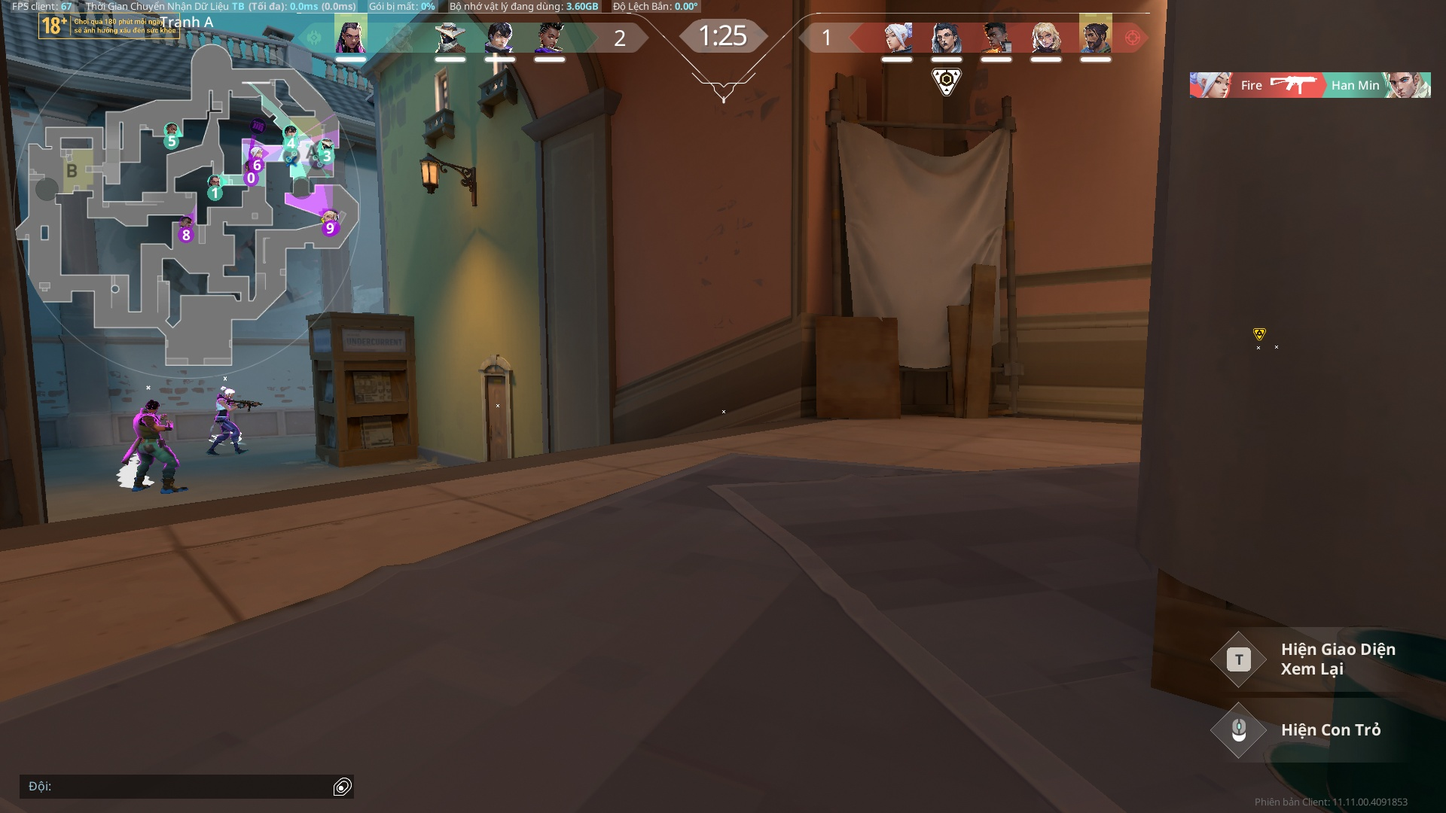body: (134, 411, 163, 440), (215, 394, 232, 417)
head: (146, 400, 160, 414), (223, 388, 235, 400)
